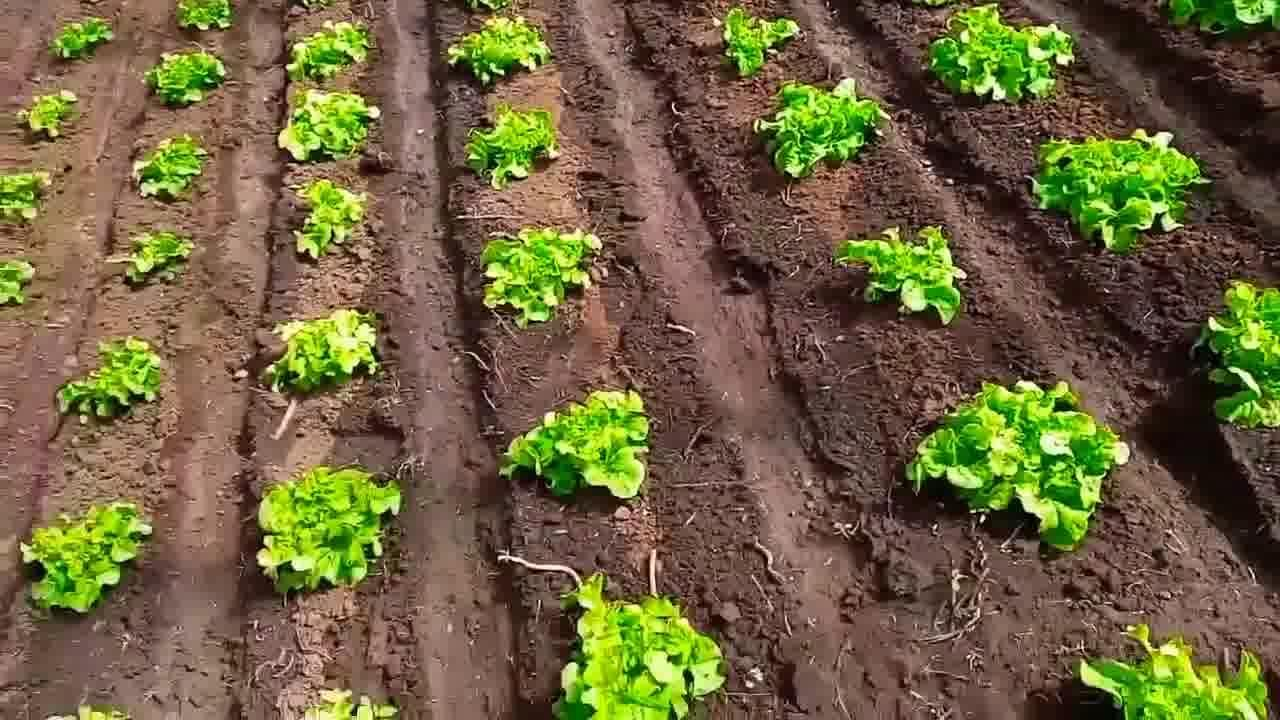healthy: (908, 380, 1119, 549), (549, 578, 721, 720), (1026, 126, 1210, 249), (259, 465, 396, 589), (1090, 625, 1268, 720), (27, 500, 150, 623), (920, 5, 1080, 97), (510, 389, 646, 494), (830, 223, 966, 325), (751, 77, 879, 182), (1196, 280, 1280, 430), (474, 231, 601, 324), (267, 314, 381, 387), (466, 103, 566, 184), (71, 339, 165, 415), (450, 17, 548, 84), (283, 87, 374, 156), (132, 47, 234, 103), (714, 10, 799, 76), (294, 182, 363, 258), (285, 20, 370, 76), (138, 136, 207, 204), (53, 13, 107, 54), (27, 93, 80, 130)
